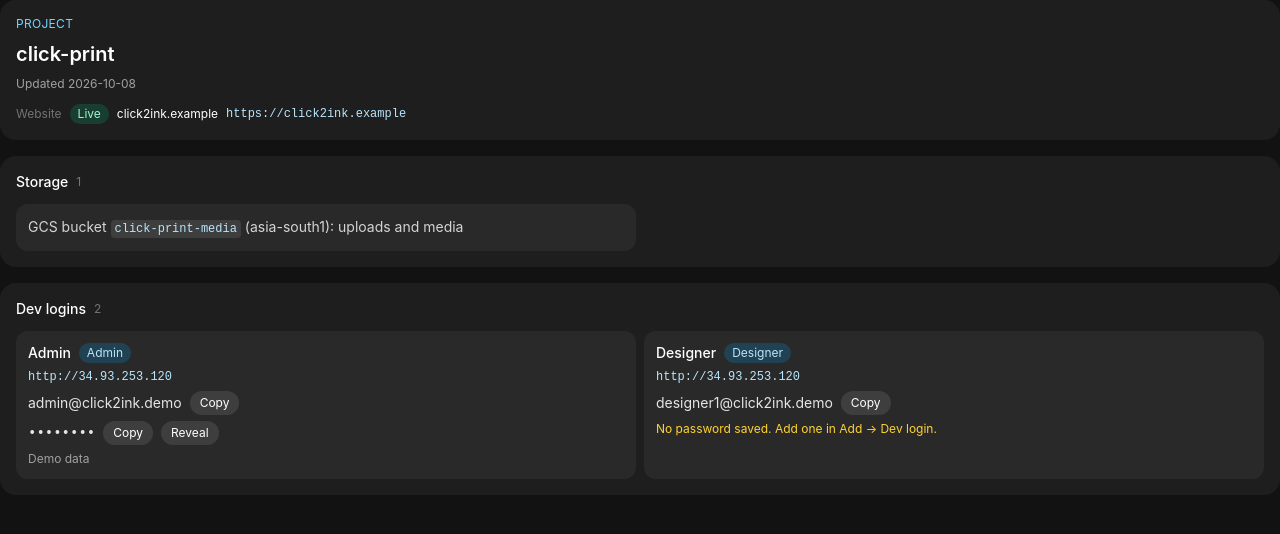
Test: RecordView live site, storage and dev logins › shows keychain errors instead of crashing
What coordinates should you click on to do the following:
click the button with aria-label "Reveal password for Admin"
I would click on:
 (190, 433)
Its box is [161, 421, 219, 445].
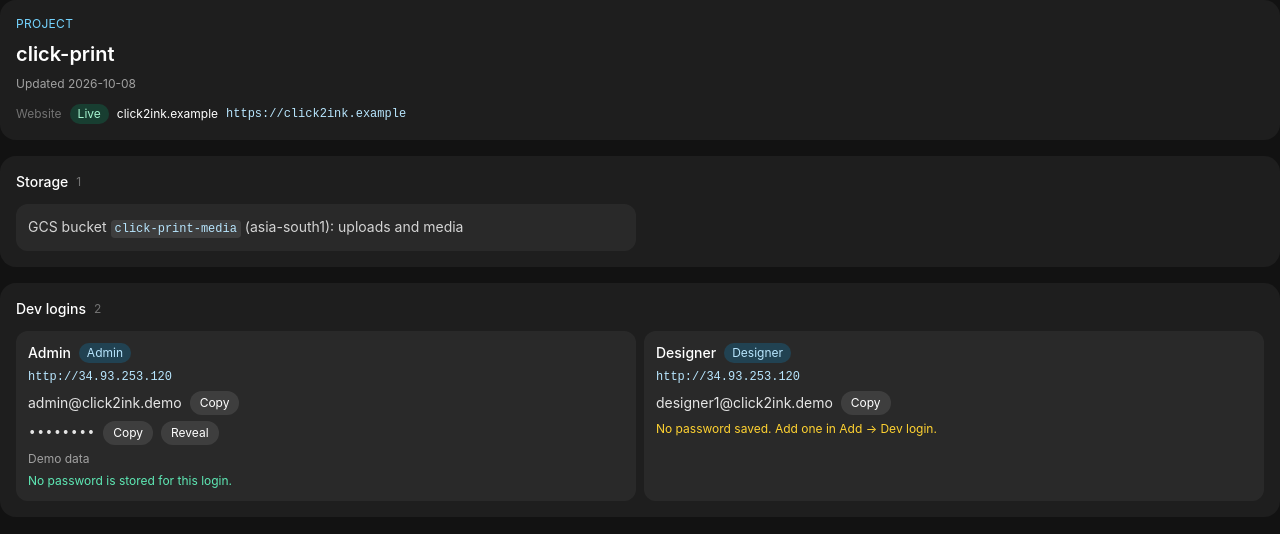
expect the text "No password is stored for this login." is shown: met, box [28, 473, 232, 488]
